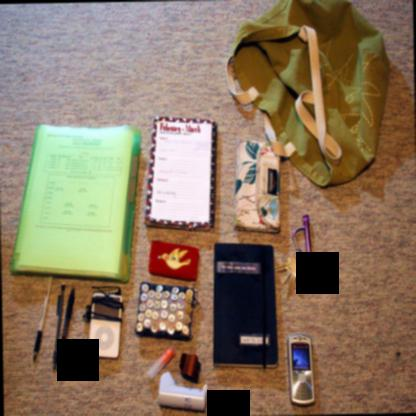handbag: (224, 0, 391, 190)
